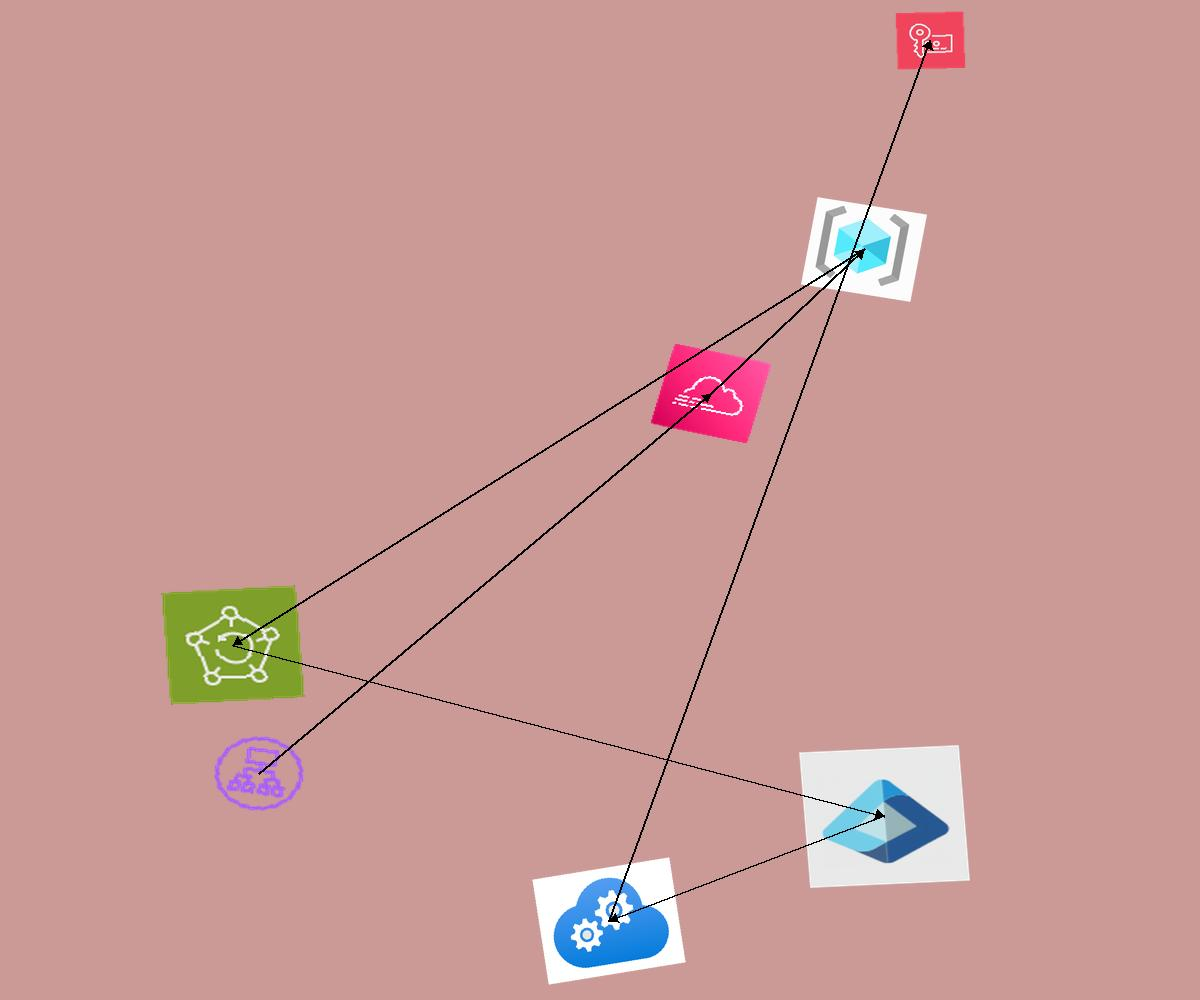AWS-Backup: (161, 585, 305, 705)
AWS-CloudTrail: (650, 343, 772, 444)
AWS-Key-Management-Service: (895, 11, 966, 70)
AWS-Res_Elastic-Load-Balancing_Application-Load-Balancer: (203, 727, 315, 820)
Azure_cloud_services: (532, 857, 686, 985)
Azure_microsoft_entra: (799, 745, 970, 888)
Azure_resource_group: (801, 197, 927, 302)
